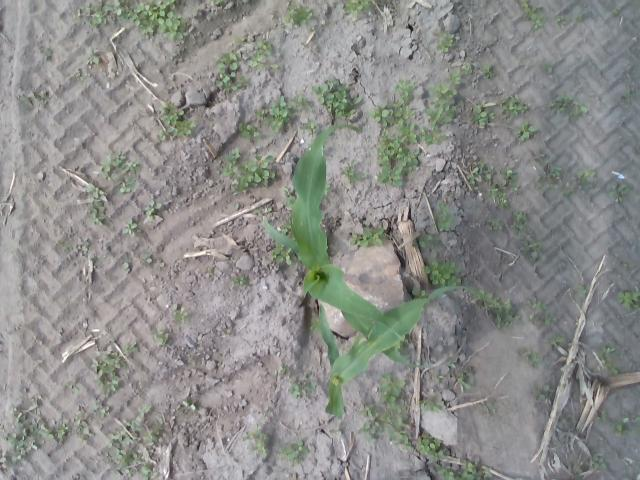Maize: (263, 123, 427, 368), (318, 284, 502, 421)
Weeds: (356, 372, 493, 480), (369, 68, 462, 187), (0, 393, 111, 476), (106, 405, 166, 480), (76, 0, 188, 40), (214, 34, 279, 92), (92, 338, 140, 400), (220, 147, 279, 192), (466, 162, 520, 210), (309, 76, 363, 120), (94, 149, 140, 194), (252, 92, 296, 134), (153, 99, 194, 144), (475, 290, 521, 330), (509, 210, 542, 258), (548, 94, 590, 126), (562, 167, 596, 202), (534, 152, 562, 194), (240, 427, 272, 462), (276, 438, 312, 469), (84, 182, 108, 226), (524, 293, 557, 325), (424, 260, 461, 286), (348, 225, 388, 249), (286, 370, 318, 400), (283, 1, 314, 31), (518, 0, 544, 30), (499, 94, 528, 120), (452, 364, 477, 394), (432, 200, 454, 232), (470, 101, 494, 130), (341, 158, 367, 184), (432, 27, 457, 53), (610, 177, 633, 205), (596, 346, 619, 374), (236, 120, 263, 143), (268, 244, 293, 267), (418, 394, 444, 414), (341, 0, 371, 17), (617, 289, 640, 311), (290, 88, 312, 110), (56, 239, 88, 254), (518, 348, 542, 368), (413, 233, 439, 251), (514, 122, 536, 143), (26, 90, 49, 108), (172, 301, 188, 326), (586, 455, 608, 473), (85, 45, 102, 68), (533, 383, 553, 402), (298, 119, 320, 135), (143, 200, 162, 218), (230, 271, 250, 288), (608, 420, 628, 436), (431, 368, 448, 386), (153, 330, 170, 348), (485, 217, 505, 232), (121, 218, 139, 234), (480, 64, 498, 80), (176, 399, 198, 412), (622, 84, 636, 104), (74, 68, 91, 83), (594, 408, 608, 424), (64, 380, 82, 392), (538, 57, 552, 72), (278, 362, 290, 378), (308, 316, 320, 332), (284, 185, 294, 204), (549, 335, 562, 349), (252, 207, 273, 215), (280, 220, 292, 234), (462, 63, 474, 77), (576, 282, 588, 296), (486, 402, 498, 414), (202, 266, 216, 276), (412, 289, 426, 299), (558, 418, 568, 431), (144, 252, 154, 264), (556, 14, 566, 26), (156, 259, 165, 271), (575, 14, 584, 26), (44, 48, 52, 60), (621, 260, 630, 270), (325, 184, 331, 198), (612, 6, 620, 16), (210, 0, 222, 6), (631, 416, 640, 423), (123, 261, 130, 270), (630, 426, 638, 433), (234, 202, 240, 211)
